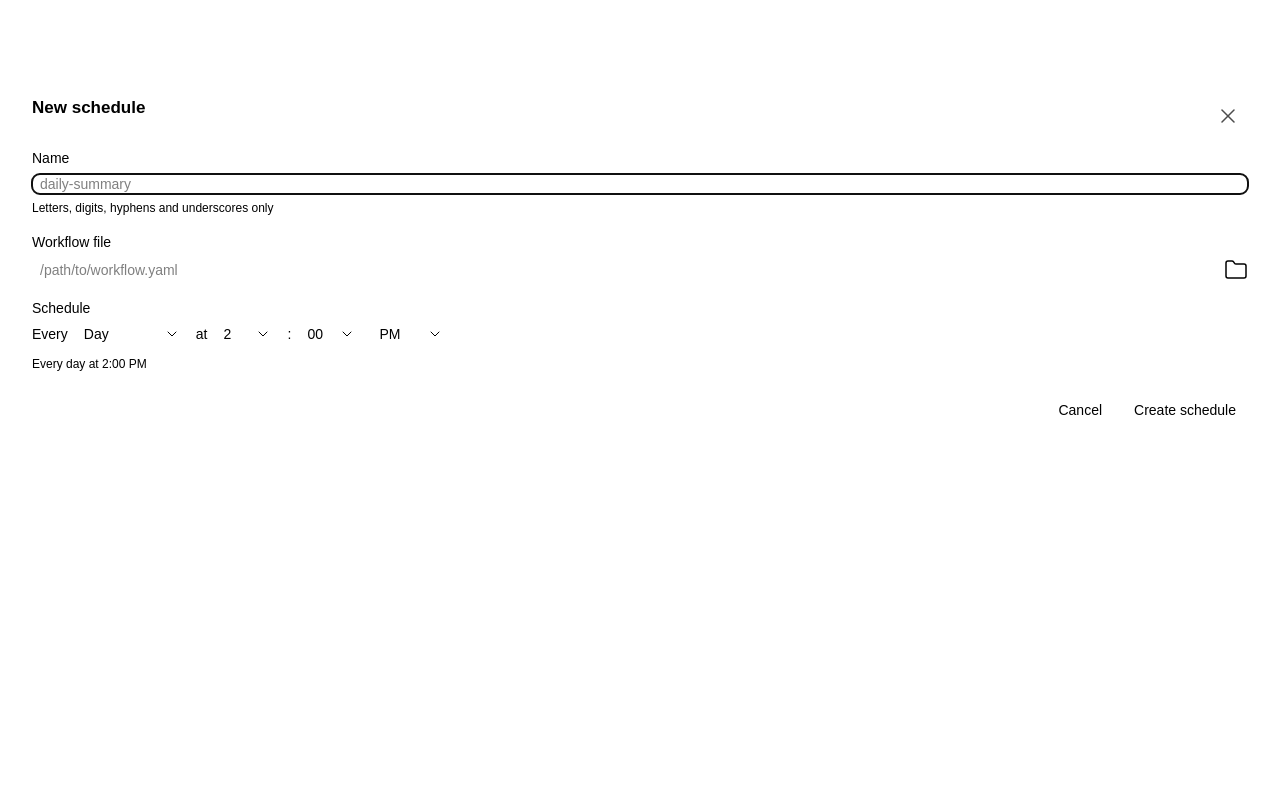
ScheduleModal primary button colour › still names the missing field when pressed neutral
Click the button "Create schedule": click(1185, 410) [1122, 400, 1248, 420]
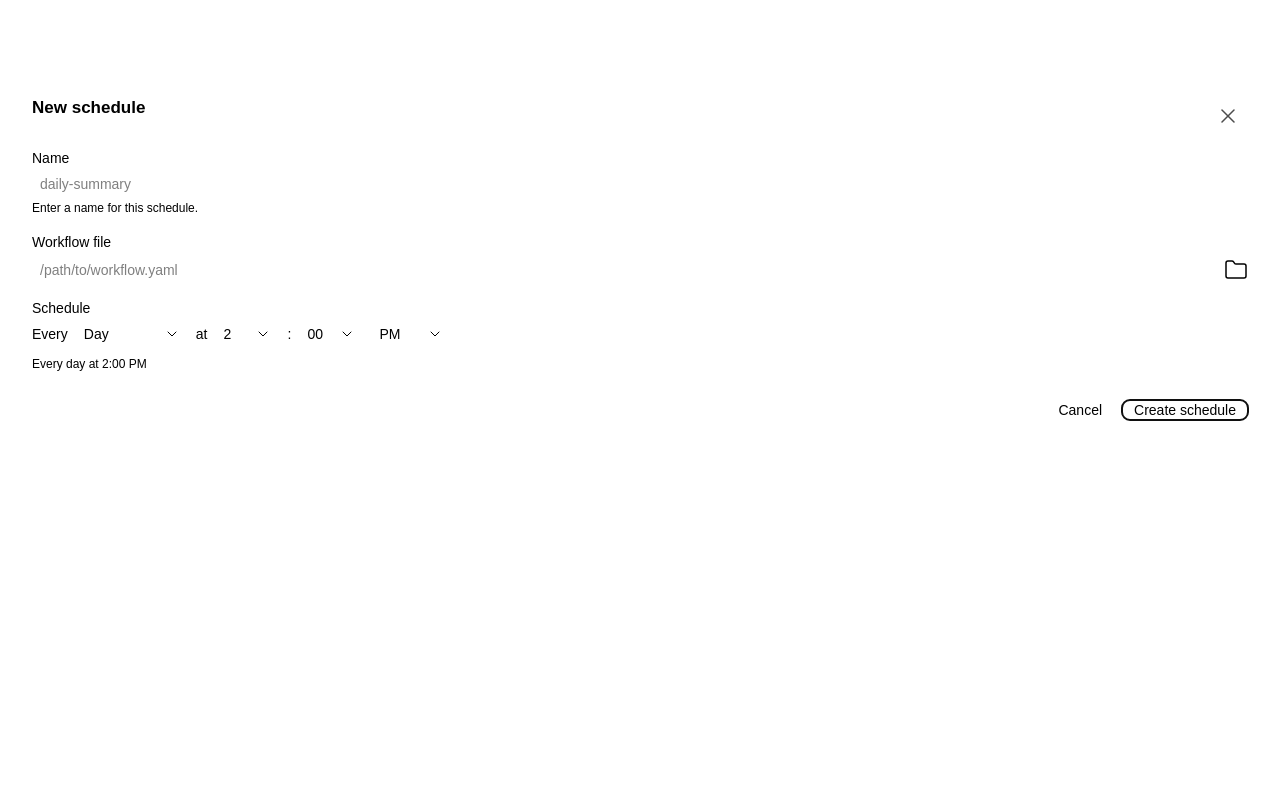
Check: the message reads "Enter a name for this schedule.", box [32, 201, 198, 215]
